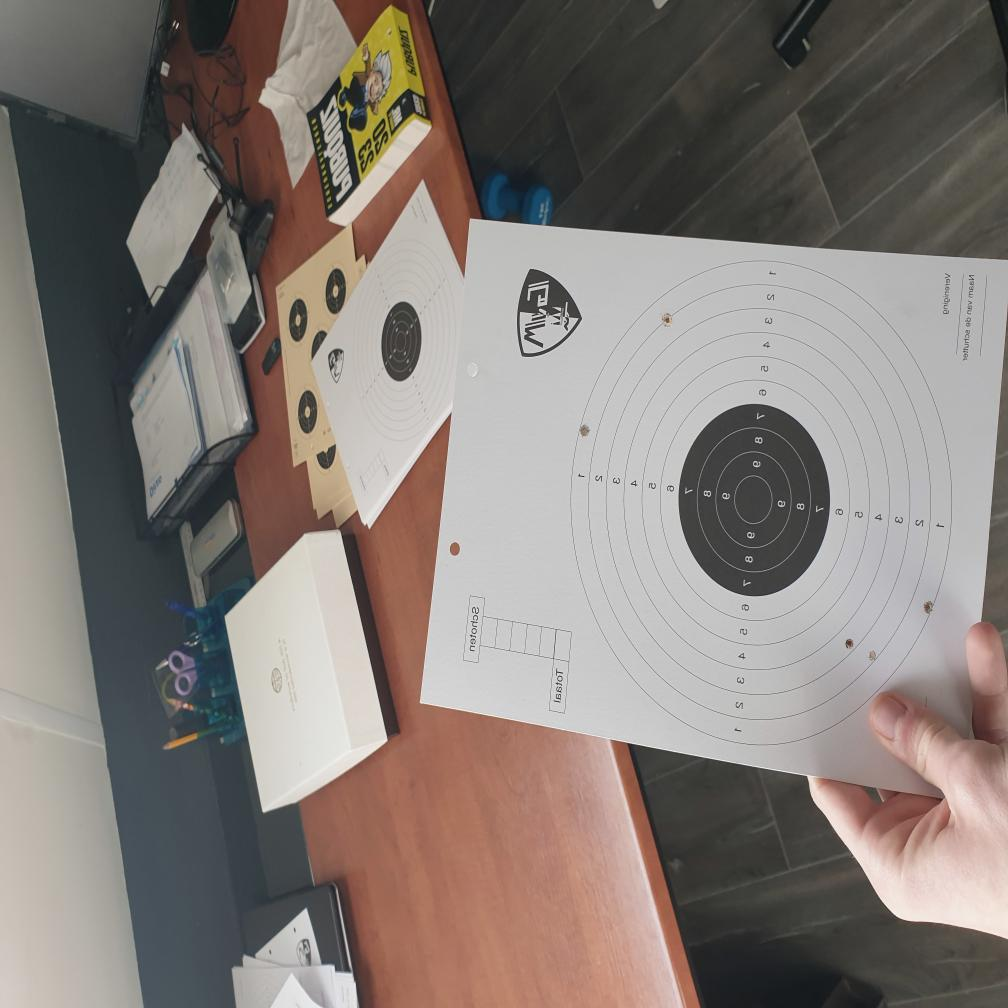1: (578, 424, 591, 440), (923, 600, 935, 616)
2: (660, 312, 674, 327), (867, 648, 877, 662)
3: (845, 638, 854, 650)
Target: (570, 259, 955, 746)
black_contour: (678, 403, 831, 597)
